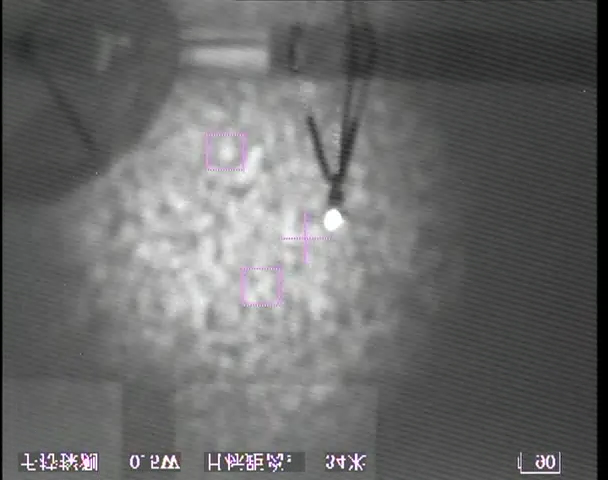my: (321, 206, 346, 233)
